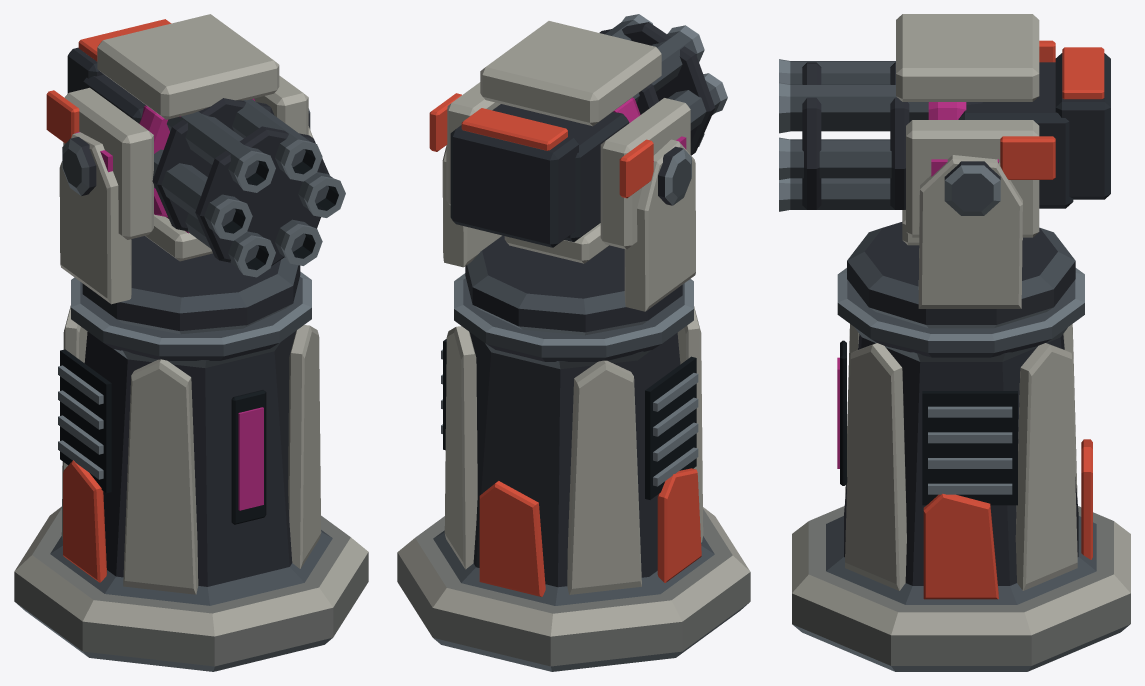
The model's file is lv5_cadence.glb.
The picture shows the model from 3 angles, left to right: view 1: azimuth 30°, elevation 25°; view 2: azimuth 150°, elevation 25°; view 3: azimuth 270°, elevation 25°; orthographic projection. The views are drawn at different scales.
Parts seen in each view (by area): view 1: Base, Barrel_Recoil, Turret_Yaw, Base_TeamColor, Team_Panels; view 2: Base, Barrel_Recoil, Turret_Yaw, Base_TeamColor, Team_Panels; view 3: Base, Barrel_Recoil, Turret_Yaw, Base_TeamColor, Team_Panels.
Boxes of the visible parts, box(x1,y1,x2,y2) form: Base: box(14, 271, 368, 671); Barrel_Recoil: box(63, 14, 345, 277); Turret_Yaw: box(59, 108, 313, 334); Base_TeamColor: box(63, 460, 106, 582); Team_Panels: box(46, 19, 171, 143); Base: box(397, 273, 750, 671); Barrel_Recoil: box(446, 14, 727, 263); Turret_Yaw: box(442, 139, 695, 335); Base_TeamColor: box(479, 468, 701, 596); Team_Panels: box(429, 93, 653, 198); Base: box(792, 268, 1130, 671); Barrel_Recoil: box(779, 14, 1110, 245); Turret_Yaw: box(847, 155, 1075, 328); Base_TeamColor: box(923, 439, 1092, 599); Team_Panels: box(1000, 40, 1104, 179).
Size of the model in its own units: 1.91 by 3.5 by 1.98.
